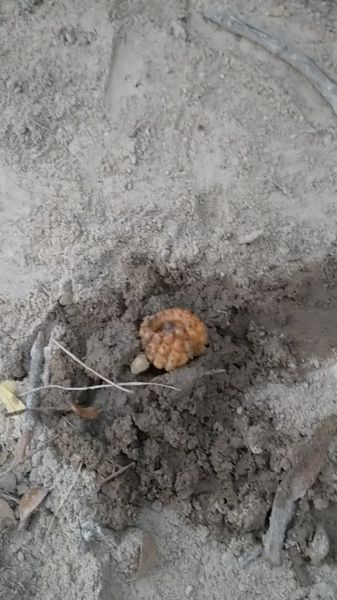eggs: (132, 303, 217, 374)
